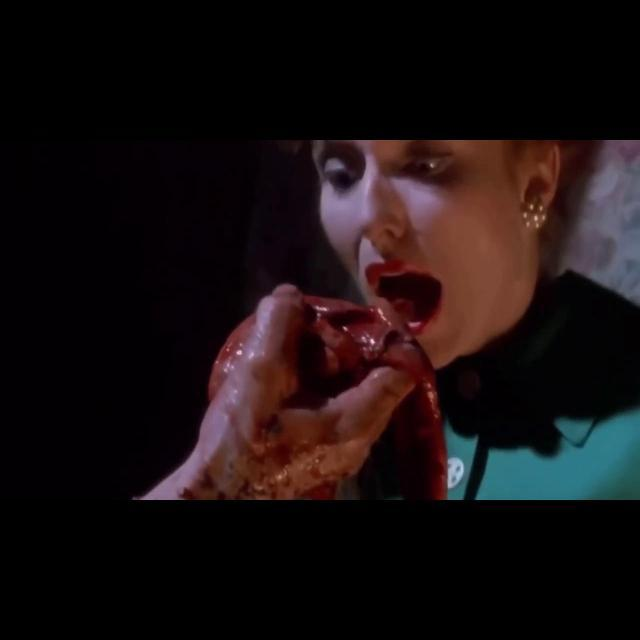blood: (146, 259, 448, 500)
